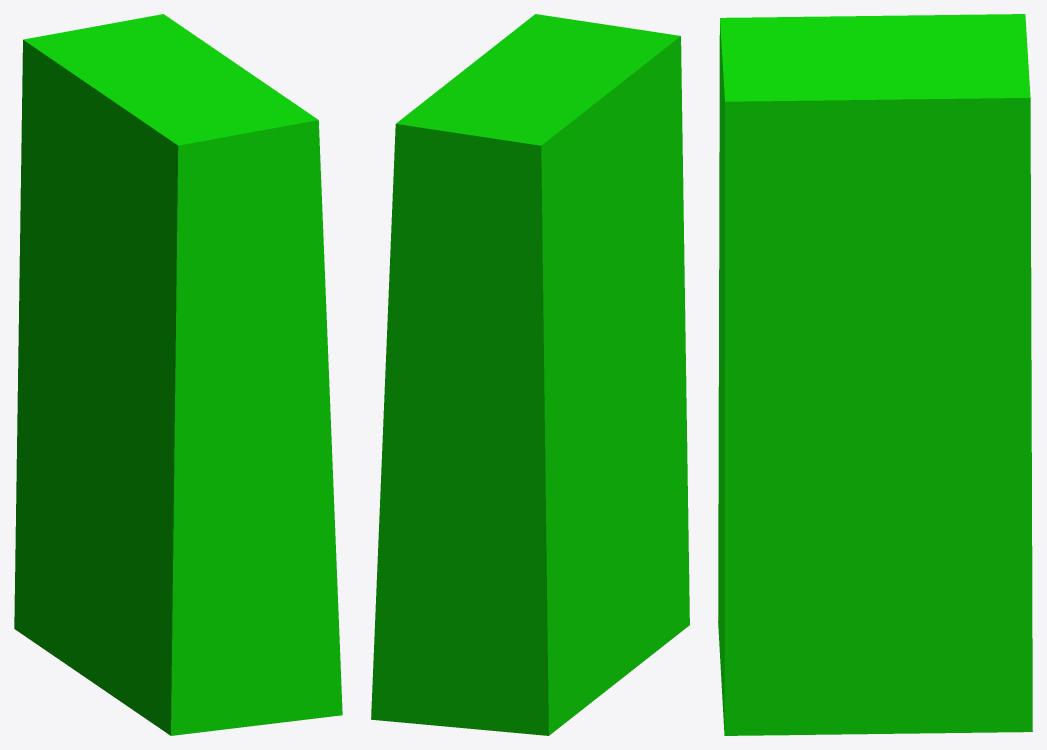
The model's file is sm_castle_038.fbx.
3 renders of one model, left to right at view 1: azimuth 30°, elevation 25°; view 2: azimuth 150°, elevation 25°; view 3: azimuth 270°, elevation 25°, orthographic. The views are drawn at different scales.
Parts seen in each view (by area): view 1: sm_castle.038; view 2: sm_castle.038; view 3: sm_castle.038.
Part boxes in pixels (box(x1,y1,x2,y2)): sm_castle.038: box(14, 14, 342, 735); sm_castle.038: box(371, 14, 689, 735); sm_castle.038: box(718, 14, 1032, 735).
Bounding box in the file's own units: 208 × 667 × 300.
